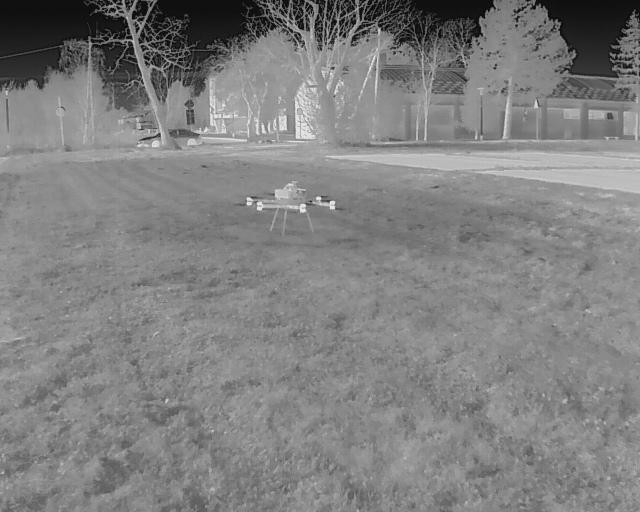drone: (237, 182, 339, 236)
